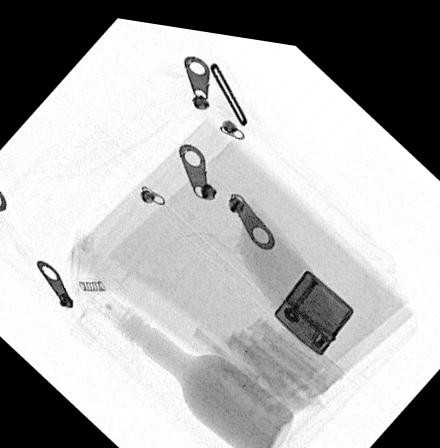Lighter: (272, 259, 355, 344)
